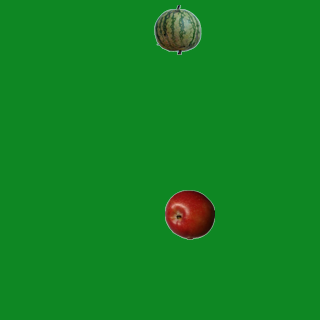Apple Braeburn: (164, 189, 214, 239)
Watermelon: (152, 4, 202, 54)
